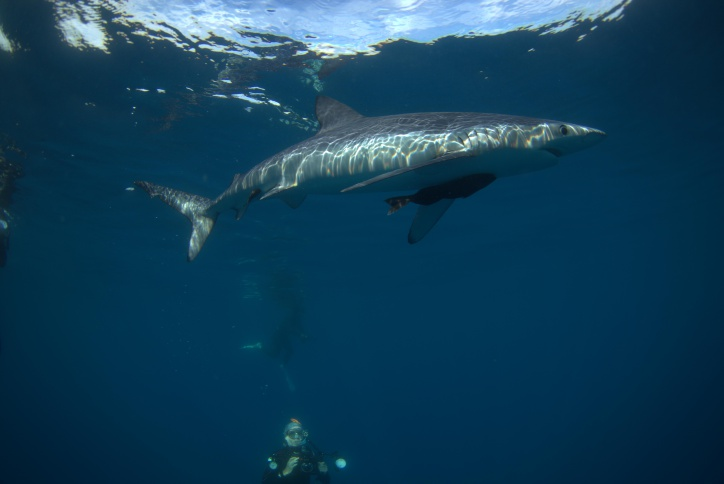Azul: (121, 65, 616, 262)
